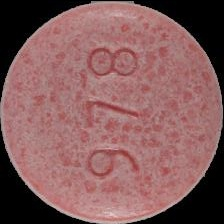51285-128: (0, 0, 224, 224)
